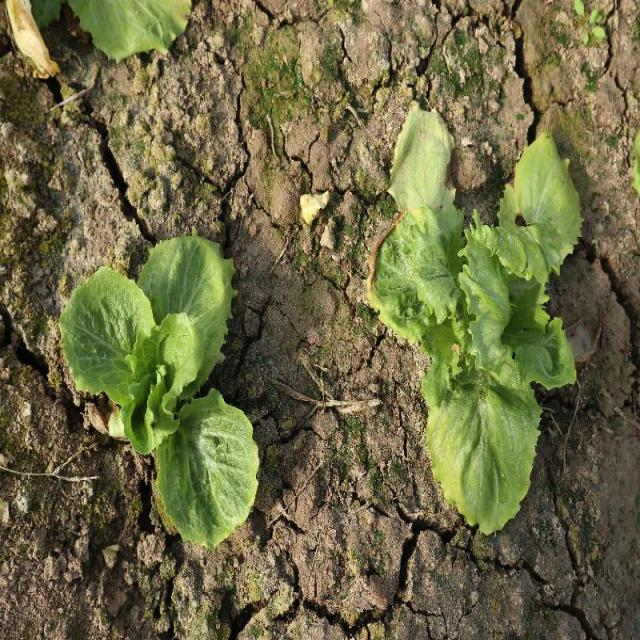crop: (368, 103, 584, 538), (60, 231, 262, 550)
